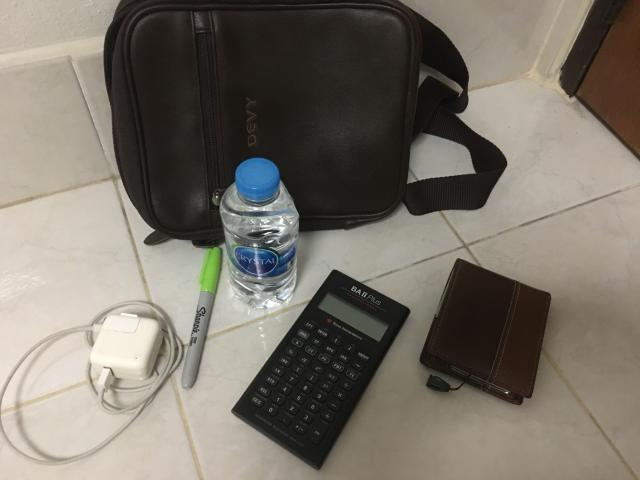Pen: (181, 248, 221, 389)
Wallet: (420, 259, 551, 405)
bottle: (220, 158, 299, 308)
wire: (0, 300, 182, 465)
